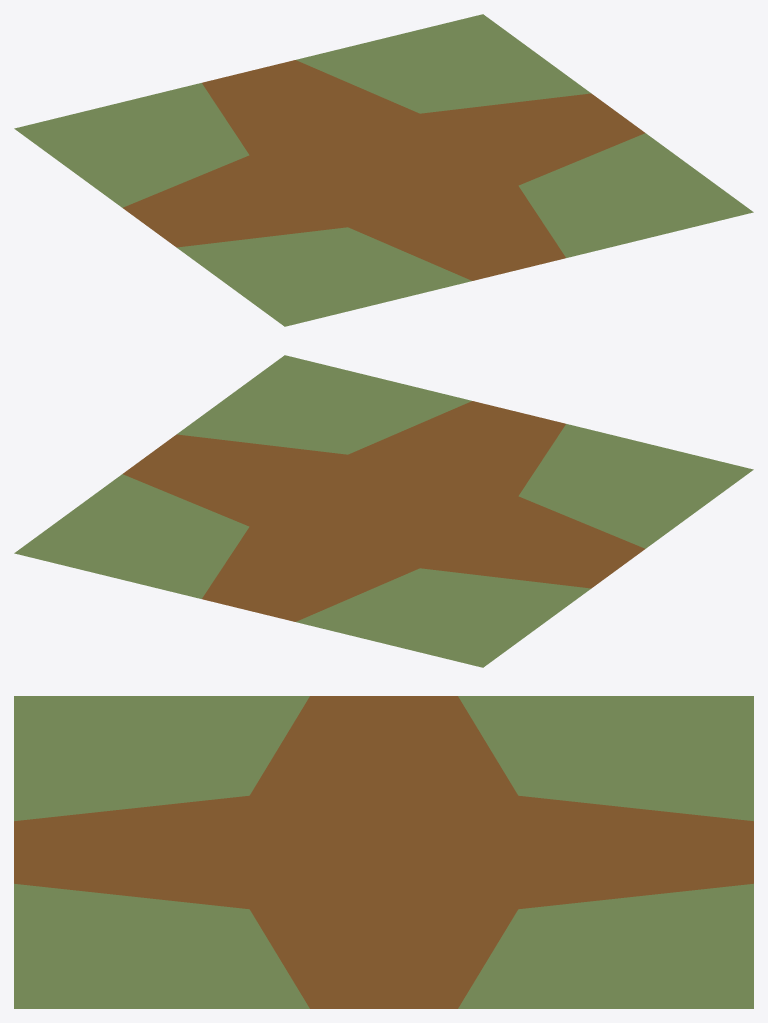
File: SA_Env_Dirt_CrossPaths.fbx
The picture shows the model from 3 angles, top to bottom: view 1: azimuth 30°, elevation 25°; view 2: azimuth 150°, elevation 25°; view 3: azimuth 270°, elevation 25°; orthographic projection. The views are drawn at different scales.
Parts seen in each view (by area): view 1: SA_Env_Dirt_CrossPaths; view 2: SA_Env_Dirt_CrossPaths; view 3: SA_Env_Dirt_CrossPaths.
Part boxes in pixels (bbox=[...]): SA_Env_Dirt_CrossPaths: bbox=[14, 14, 753, 326]; SA_Env_Dirt_CrossPaths: bbox=[14, 355, 753, 667]; SA_Env_Dirt_CrossPaths: bbox=[14, 696, 753, 1008].
Bounding box in the file's own units: 15 × 0 × 15.
